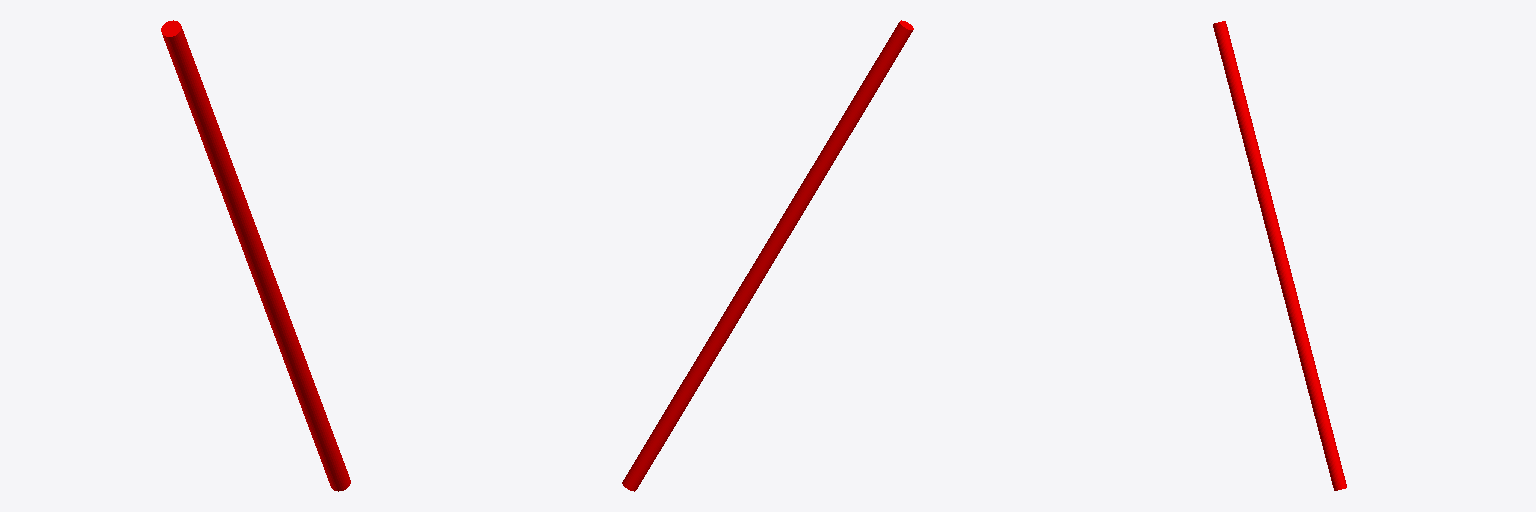
The robot description file, URDF, robot "tree_28.urdf":
<?xml version='1.0' encoding='utf-8'?>
<robot name="tree_28.urdf">
  <link name="branch_0">
    <inertial>
      <origin xyz="0.0 0.0 0.0" rpy="0.0 -0.0 0.0" />
      <mass value="1.0" />
      <inertia ixx="1.0" ixy="0.0" ixz="0.0" iyy="1.0" iyz="0.0" izz="1.0" />
    </inertial>
    <visual name="branch_0_visual">
      <geometry>
        <cylinder radius="0.03910463043989168" length="2.7471127832066227" />
      </geometry>
      <material name="semantic_material" />
      <origin xyz="-0.5636069382744061 -0.3463102988266652 1.203774711883351" rpy="0.0 0.5024763647806102 -2.590613254768909" />
    </visual>
    <collision name="branch_0_collision">
      <geometry>
        <cylinder radius="0.03910463043989168" length="2.7471127832066227" />
      </geometry>
      <origin xyz="-0.5636069382744061 -0.3463102988266652 1.203774711883351" rpy="0.0 0.5024763647806102 -2.590613254768909" />
    </collision>
  </link>
  <material name="semantic_material">
    <color rgba="1. 0. 0. 1." />
  </material>
</robot>

--- What the picture shows (computed from the rendered views, not written in the file) ---
The picture shows the robot from 3 angles, left to right: view 1: azimuth 30°, elevation 25°; view 2: azimuth 150°, elevation 25°; view 3: azimuth 270°, elevation 25°; orthographic projection.
Robot: tree_28.urdf — 1 links, 0 joints (none); root link branch_0; default pose: every joint at zero.
Visible links, largest first — view 1: branch_0; view 2: branch_0; view 3: branch_0.
Link boxes in pixels (x1=…): branch_0: x1=161, y1=20, x2=350, y2=491; branch_0: x1=622, y1=20, x2=913, y2=491; branch_0: x1=1213, y1=21, x2=1346, y2=490.
Bounding box of the posed robot: 1.2 × 0.768 × 2.45 m (x, y, z).
Geometry: primitives only (box / cylinder / sphere), no mesh files.
